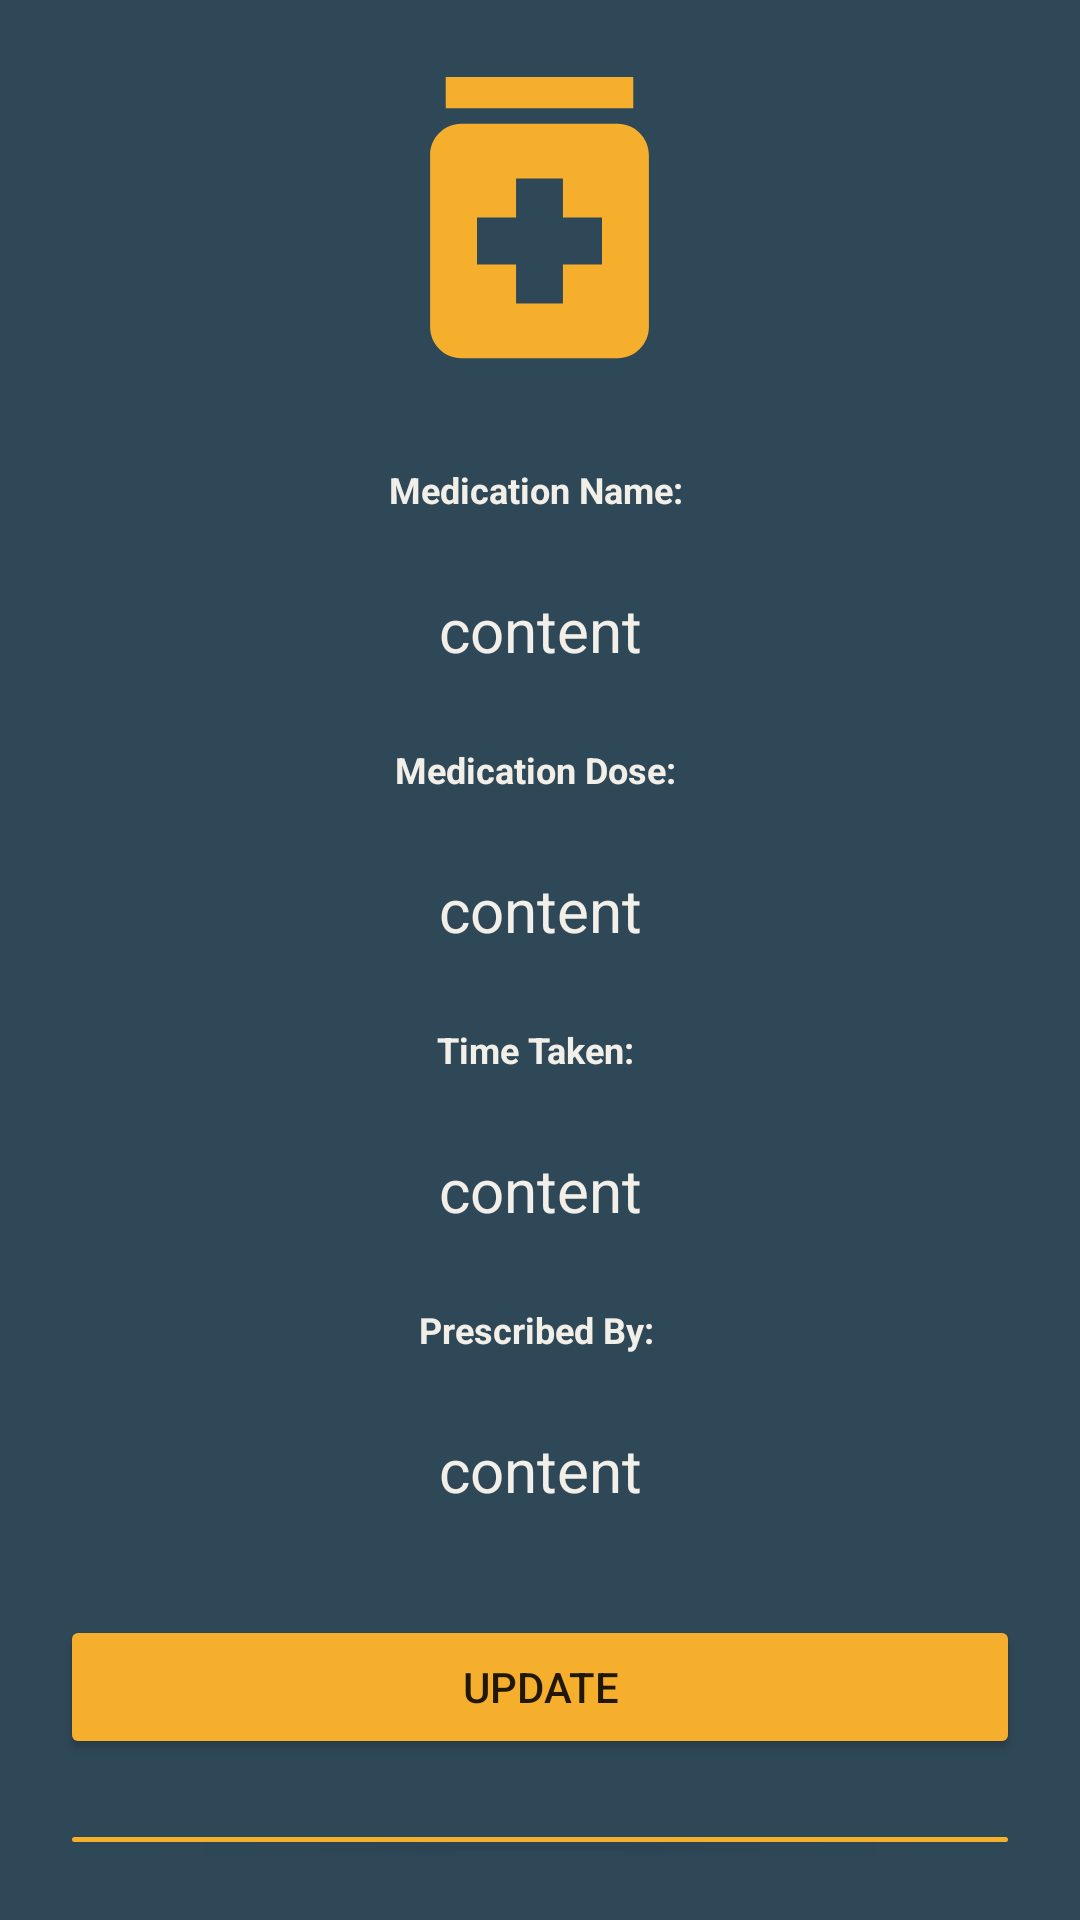

Named icons in this screenshot (1080×1920) and their centers, point (x, y):
medication bottle: point (539, 218)
